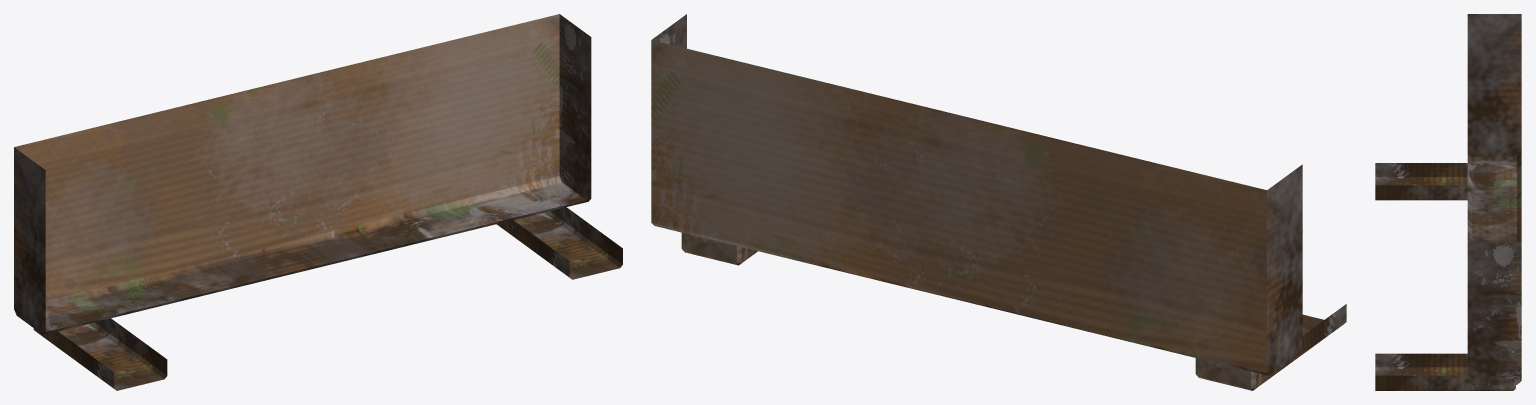
File: SM_Table.fbx
3 views of the same model, side by side, from view 1: azimuth 30°, elevation 25°; view 2: azimuth 150°, elevation 25°; view 3: azimuth 270°, elevation 25° (orthographic). The views are drawn at different scales.
Parts seen in each view (by area): view 1: Box076; view 2: Box076; view 3: Box076.
Part boxes in pixels (x1=…): Box076: x1=14, y1=14, x2=622, y2=390; Box076: x1=651, y1=14, x2=1346, y2=390; Box076: x1=1375, y1=14, x2=1521, y2=390.
Bounding box in the file's own units: 207 × 70.16 × 56.16.
